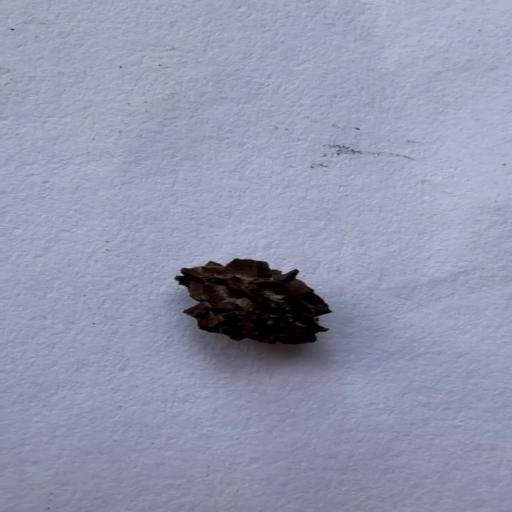papaya_seed: (169, 252, 342, 351)
